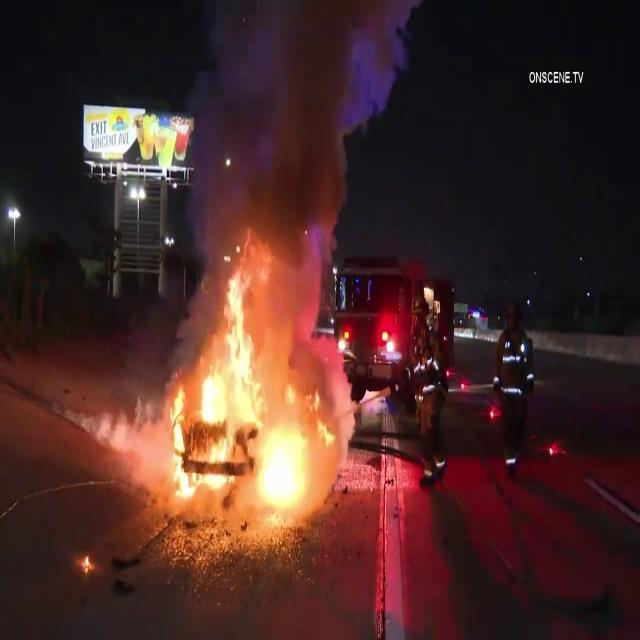Fire: (167, 220, 322, 534)
Smoke: (186, 3, 384, 300)
